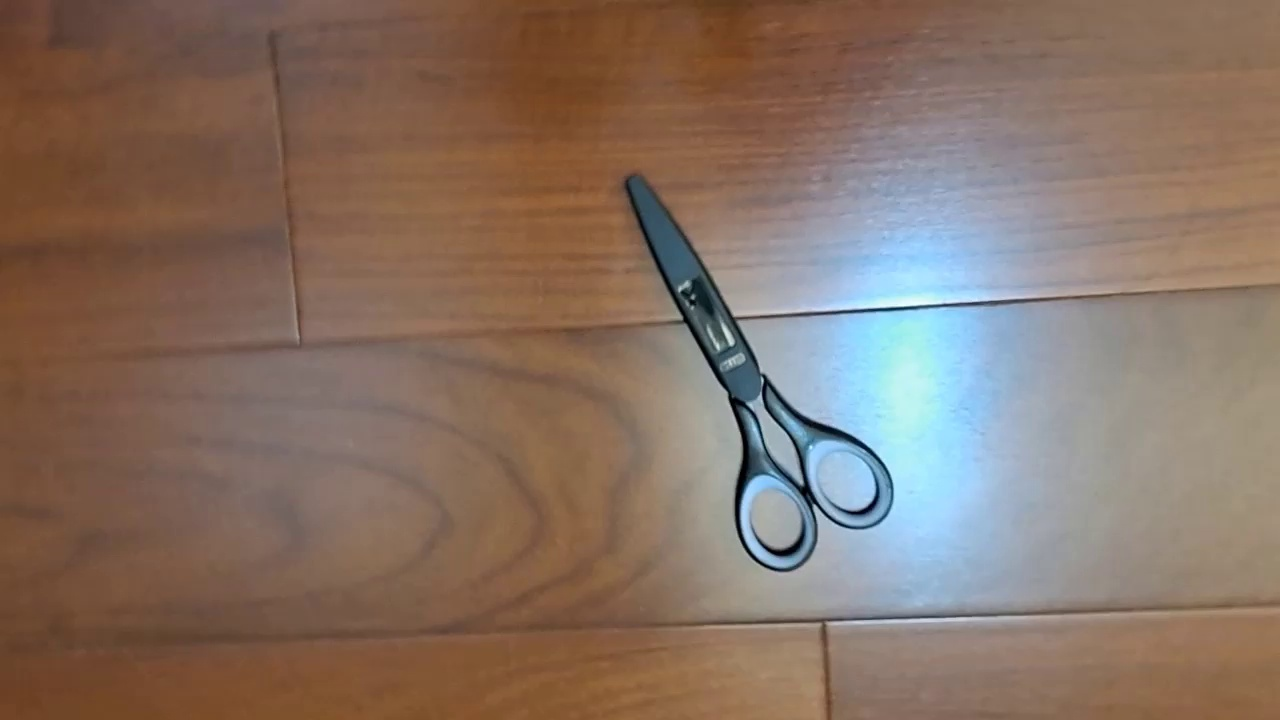scissors: (622, 170, 894, 573)
